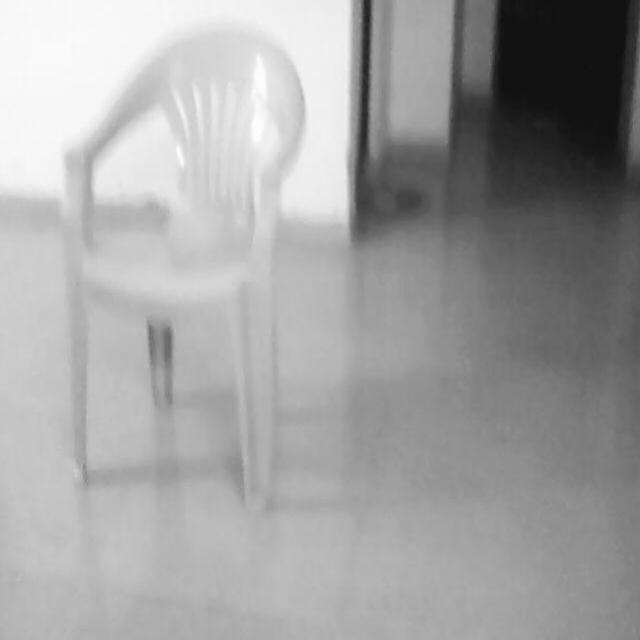chair ahead at: (52, 26, 309, 534)
